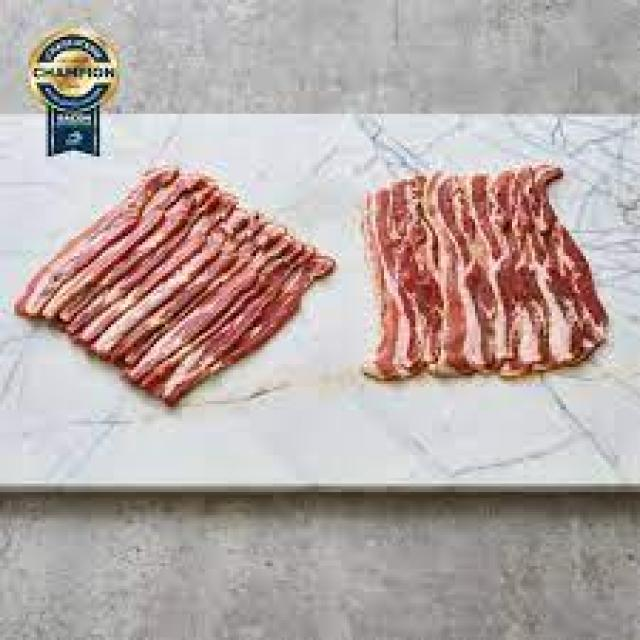bacon: (29, 164, 338, 409), (363, 167, 607, 380)
